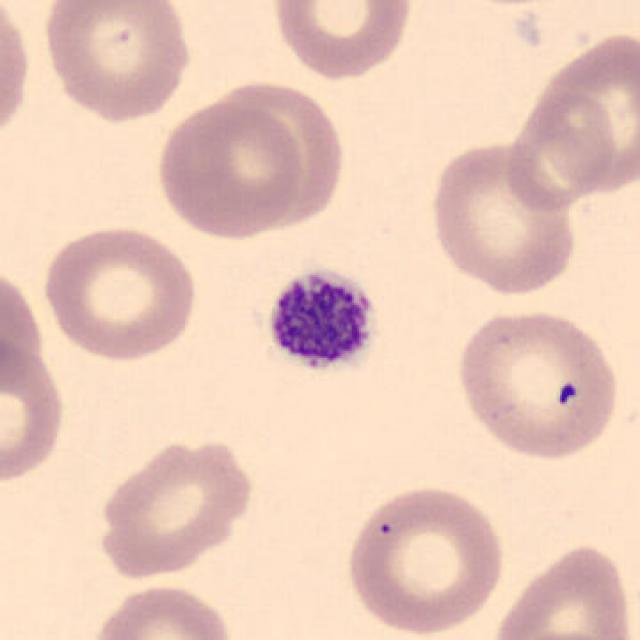Platelets: (262, 262, 382, 382)
RBC: (450, 303, 624, 464), (342, 482, 510, 638), (425, 136, 581, 298), (94, 434, 260, 582), (37, 220, 201, 364), (151, 95, 308, 242), (519, 24, 640, 202), (38, 0, 196, 125), (215, 85, 349, 225), (487, 537, 636, 640), (266, 0, 418, 81), (0, 333, 69, 488), (89, 580, 235, 640), (0, 259, 48, 402), (0, 2, 34, 153), (502, 626, 636, 640)
